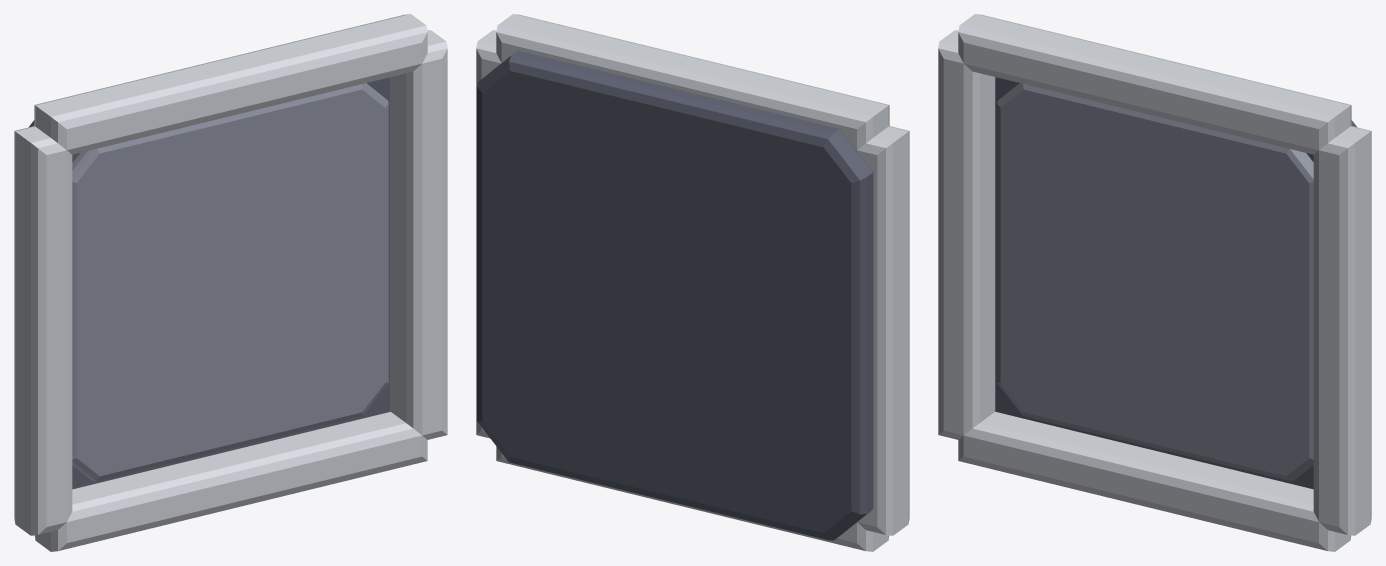
Rendered from game-ui-icon-library-inventory-slot-frame-10a1643a.glb.
3 views of the same model, side by side, from view 1: azimuth 30°, elevation 25°; view 2: azimuth 150°, elevation 25°; view 3: azimuth 330°, elevation 25° (orthographic).
Visible parts, largest first — view 1: inventory-slot-frame; view 2: inventory-slot-frame; view 3: inventory-slot-frame.
Boxes of the visible parts, x1,y1,x2,y2 form: inventory-slot-frame: (14, 14, 447, 551); inventory-slot-frame: (476, 14, 909, 551); inventory-slot-frame: (938, 14, 1371, 551).
Bounding box in the file's own units: 1.24 × 1.24 × 0.205.
